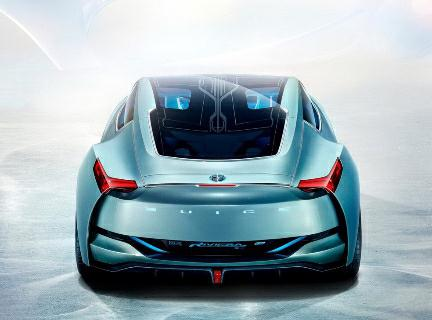别克-Riviera: (71, 71, 367, 297)
